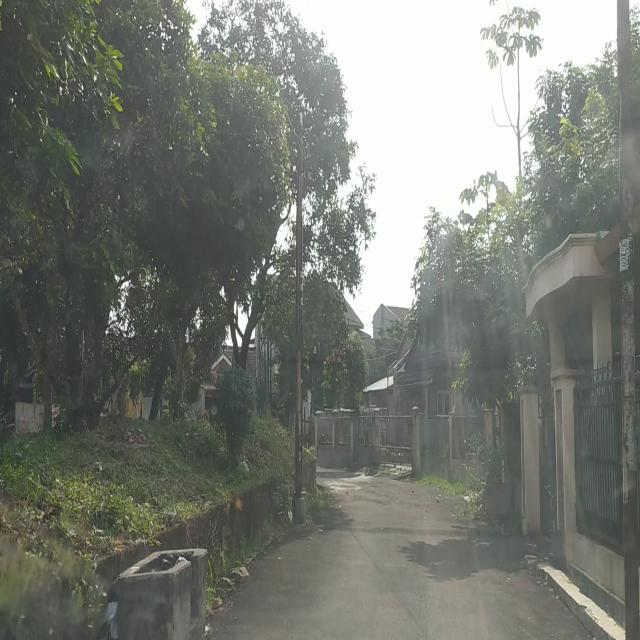Drain Hole: (410, 557, 429, 640)
